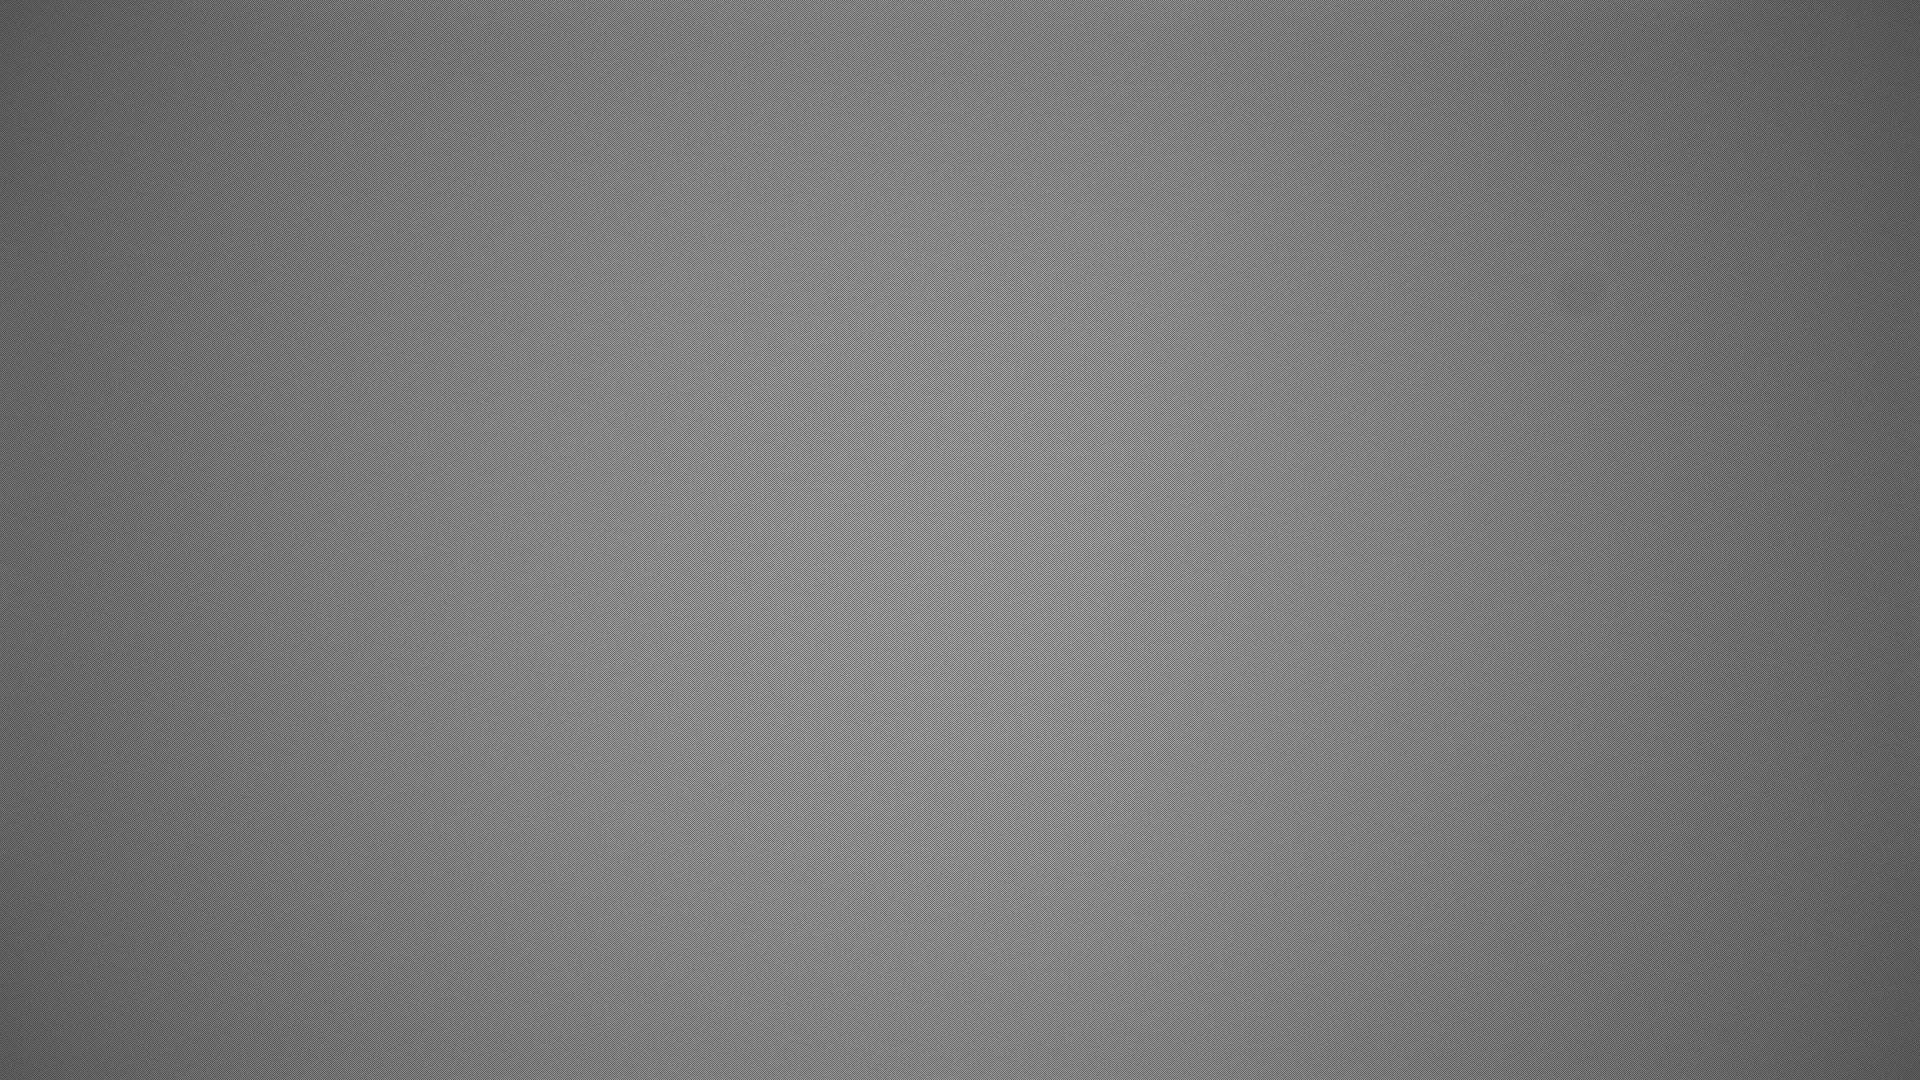defect01: (1540, 253, 1619, 334)
